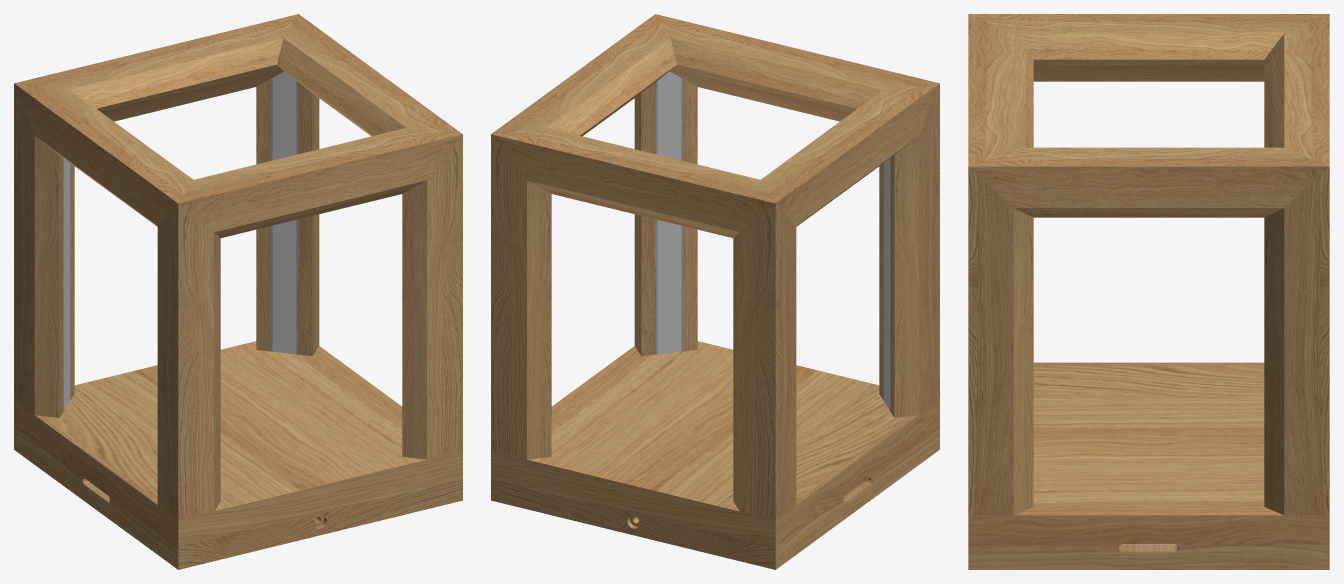
3 renders of one model, left to right at view 1: azimuth 30°, elevation 25°; view 2: azimuth 150°, elevation 25°; view 3: azimuth 270°, elevation 25°, orthographic. The views are drawn at different scales.
Parts seen in each view (by area): view 1: PROTO.001_Cube.031, Cube_Cube.002, PROTO.002_Cube.040, PROTO.013_Cube.040, Cube.010_Cube.059, Cube.013_Cube.060; view 2: PROTO.001_Cube.031, Cube_Cube.002, PROTO.002_Cube.040, PROTO.013_Cube.040, Cube.010_Cube.059, Cube.013_Cube.060; view 3: Cube_Cube.002, PROTO.001_Cube.031, PROTO.013_Cube.040, PROTO.002_Cube.040.
Boxes of the visible parts, left/top/right/bottom form: PROTO.001_Cube.031: left=14, top=79, right=462, bottom=520; Cube_Cube.002: left=14, top=341, right=462, bottom=569; PROTO.002_Cube.040: left=15, top=14, right=462, bottom=237; PROTO.013_Cube.040: left=14, top=14, right=461, bottom=226; Cube.010_Cube.059: left=63, top=71, right=296, bottom=410; Cube.013_Cube.060: left=63, top=78, right=297, bottom=411; PROTO.001_Cube.031: left=491, top=79, right=939, bottom=520; Cube_Cube.002: left=491, top=341, right=939, bottom=569; PROTO.002_Cube.040: left=491, top=14, right=938, bottom=237; PROTO.013_Cube.040: left=492, top=14, right=939, bottom=226; Cube.010_Cube.059: left=657, top=71, right=890, bottom=410; Cube.013_Cube.060: left=656, top=78, right=890, bottom=411; Cube_Cube.002: left=968, top=362, right=1329, bottom=569; PROTO.001_Cube.031: left=968, top=167, right=1329, bottom=515; PROTO.013_Cube.040: left=968, top=14, right=1329, bottom=217; PROTO.002_Cube.040: left=968, top=14, right=1329, bottom=166.
Bounding box in the file's own units: 0.18 × 0.2215 × 0.18.
